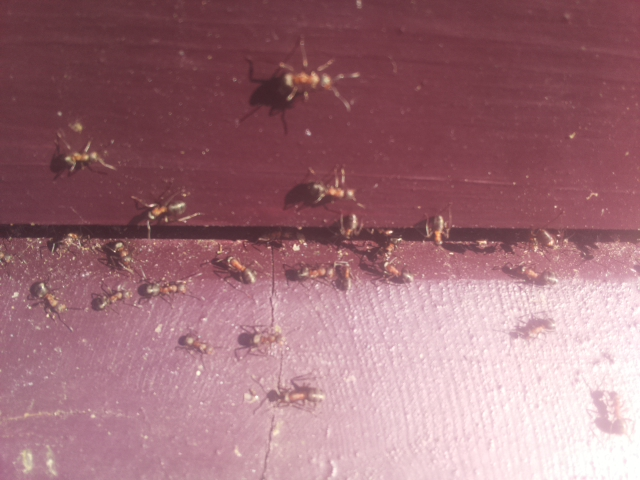ant: (274, 65, 341, 104), (49, 143, 116, 181), (24, 277, 75, 318), (264, 382, 328, 411), (139, 194, 191, 228), (232, 325, 288, 351), (224, 251, 261, 289), (88, 284, 136, 312), (421, 209, 451, 251), (173, 330, 219, 357), (136, 278, 193, 299), (285, 261, 333, 283), (107, 239, 137, 274), (383, 258, 417, 287), (334, 257, 355, 298)
